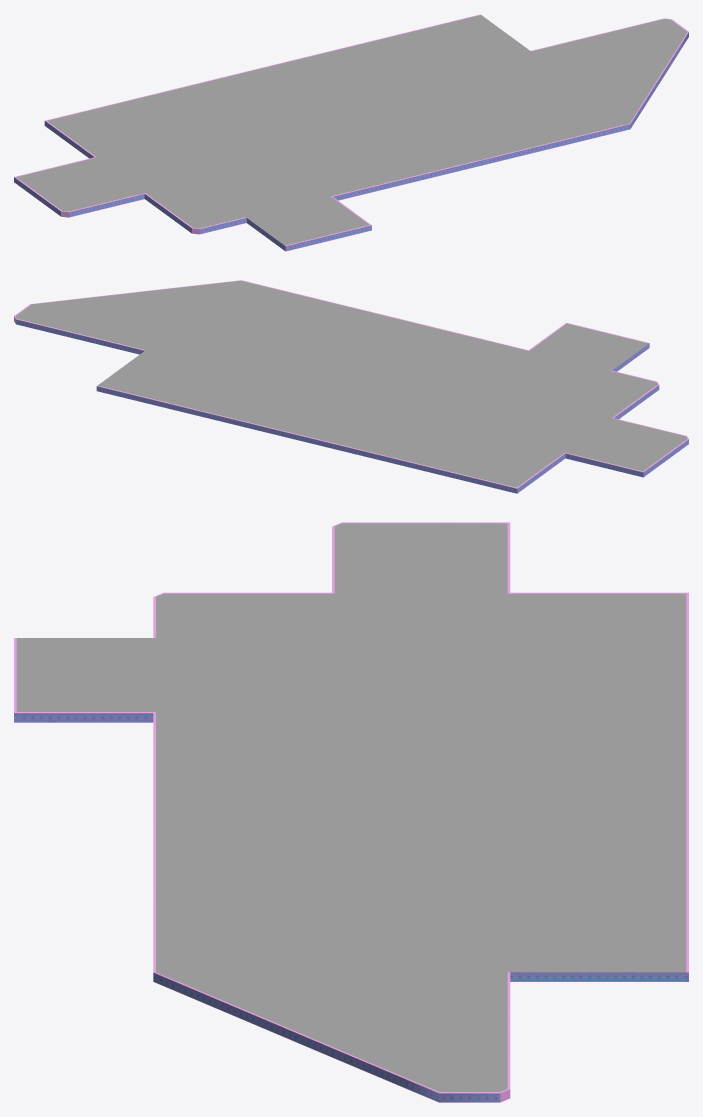
Rendered from BarracksOverhang_01_SM_Low.fbx.
3 renders of one model, top to bottom at view 1: azimuth 30°, elevation 25°; view 2: azimuth 150°, elevation 25°; view 3: azimuth 270°, elevation 25°, orthographic. The views are drawn at different scales.
Parts seen in each view (by area): view 1: GratedFloor, FloorSide; view 2: GratedFloor, FloorSide; view 3: GratedFloor, FloorSide.
Boxes of the visible parts, bbox=[...] form: GratedFloor: bbox=[16, 15, 687, 245]; FloorSide: bbox=[14, 14, 688, 251]; GratedFloor: bbox=[15, 280, 687, 487]; FloorSide: bbox=[14, 280, 688, 493]; GratedFloor: bbox=[16, 523, 686, 1091]; FloorSide: bbox=[14, 522, 688, 1102].
Size of the model in its own units: 2270 by 17.66 by 1134.
Materials: 2 (1 with a texture image).
